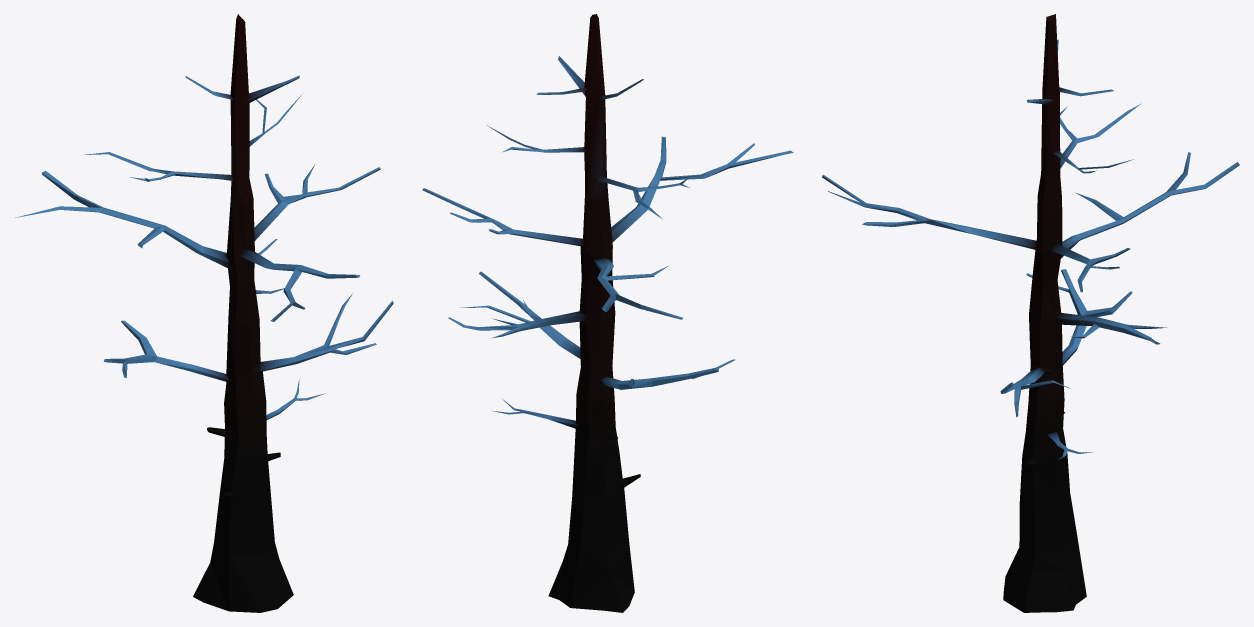
Rendered from BoldTree2.fbx.
3 renders of one model, left to right at view 1: azimuth 30°, elevation 25°; view 2: azimuth 150°, elevation 25°; view 3: azimuth 270°, elevation 25°, orthographic.
Parts seen in each view (by area): view 1: Tree_Base; view 2: Tree_Base; view 3: Tree_Base.
Part boxes in pixels (<box>): Tree_Base: <box>15,14,393,612</box>; Tree_Base: <box>422,14,793,612</box>; Tree_Base: <box>822,14,1239,612</box>.
Bounding box in the file's own units: 173 × 307 × 200.
